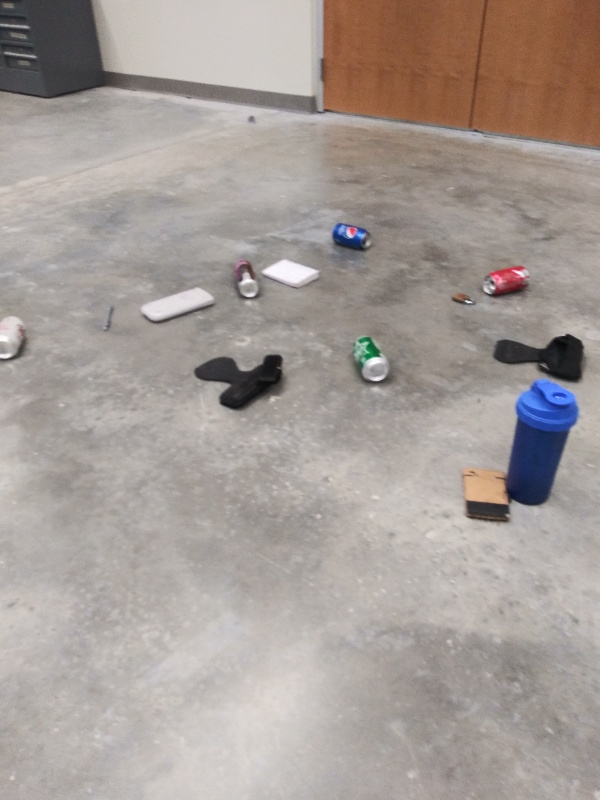can: (348, 332, 391, 386), (482, 262, 532, 297), (1, 311, 29, 364), (330, 220, 374, 253), (231, 255, 263, 299)
